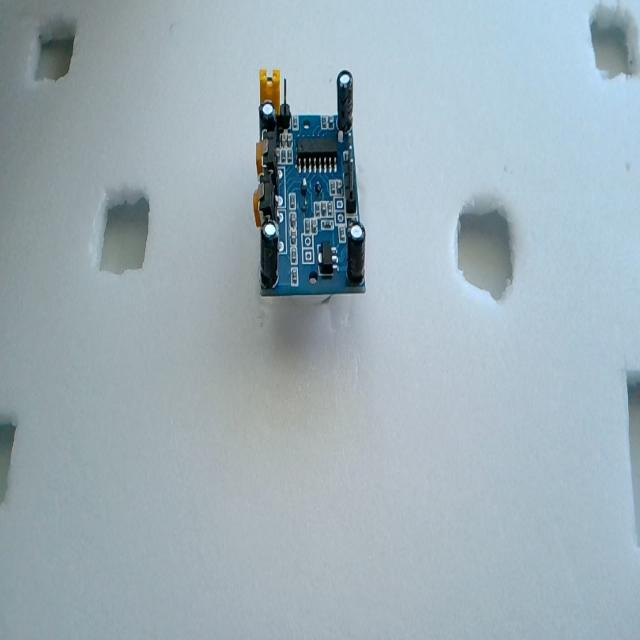Electrolytic capacitor: (260, 221, 279, 286), (346, 223, 366, 284), (337, 70, 353, 133), (259, 100, 277, 139)
IC: (296, 136, 337, 172)
pinheader: (340, 130, 361, 214)
